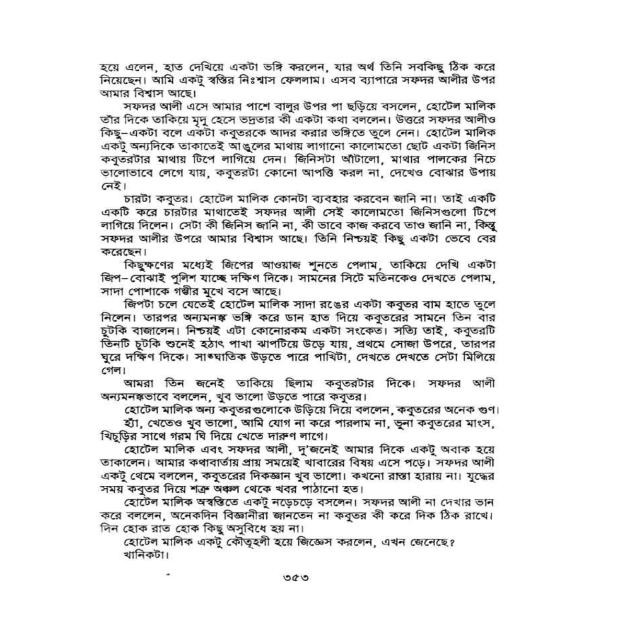page number: (277, 571, 314, 586)
paragraph: (96, 99, 499, 192), (96, 298, 499, 376), (99, 192, 495, 259), (95, 442, 499, 496), (98, 58, 497, 99), (101, 257, 495, 298), (100, 495, 490, 536), (98, 404, 498, 443), (99, 376, 495, 403), (114, 535, 460, 550), (119, 549, 172, 562)
